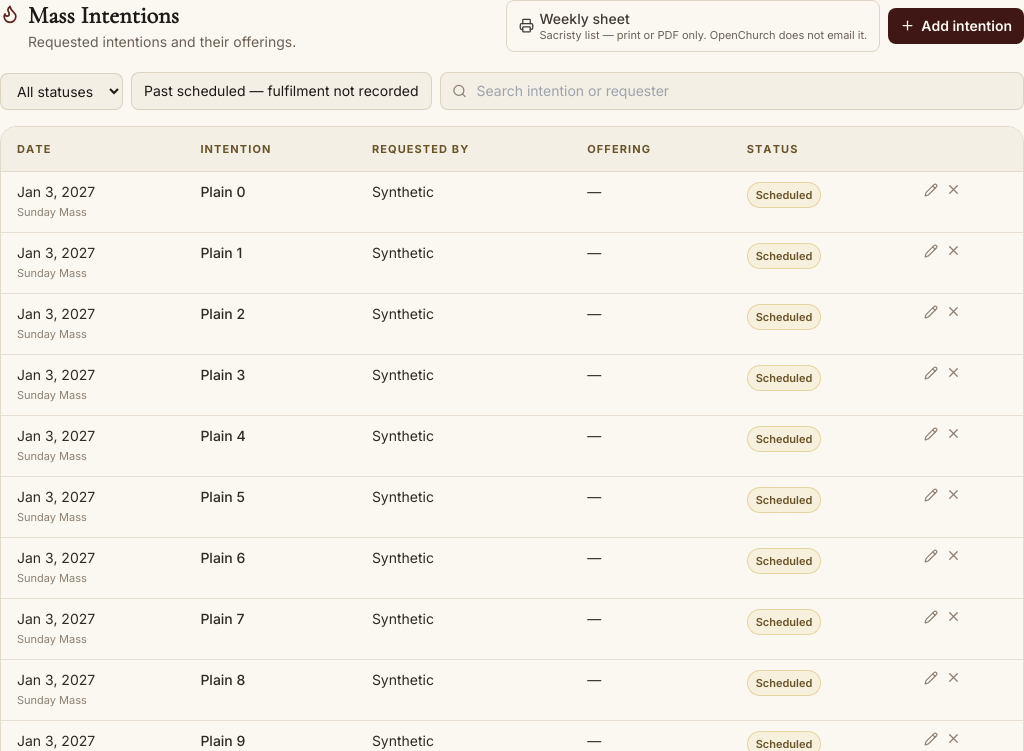
Test case: R313-1 list-result ownership › old save reload resolving after a query change does not replace the filtered list; the save toast stays truthful
Expected: the text "Plain 0" is shown, [184,172,356,232]
Click the button "Add intention". click: (956, 26)
box: [888,8,1023,44]
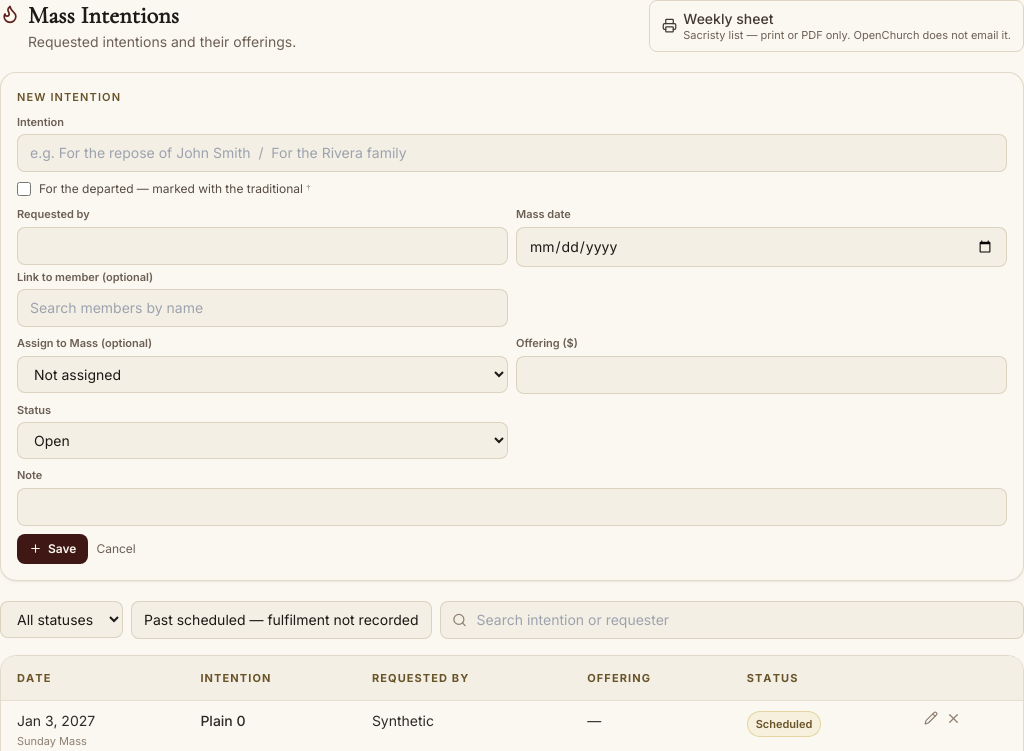
Type "For the parish" into the field labelled "Intention". click: (512, 153)
box: [17,134,1007,172]
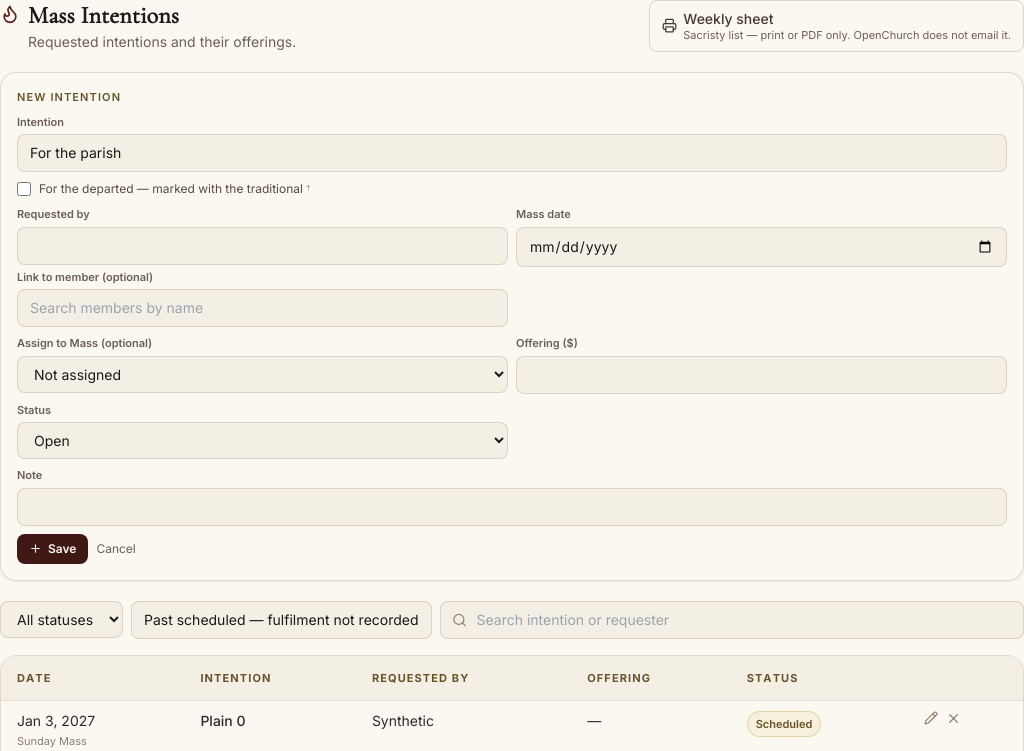
Click the button "Save". click: (53, 548)
box: [17,534,88,564]
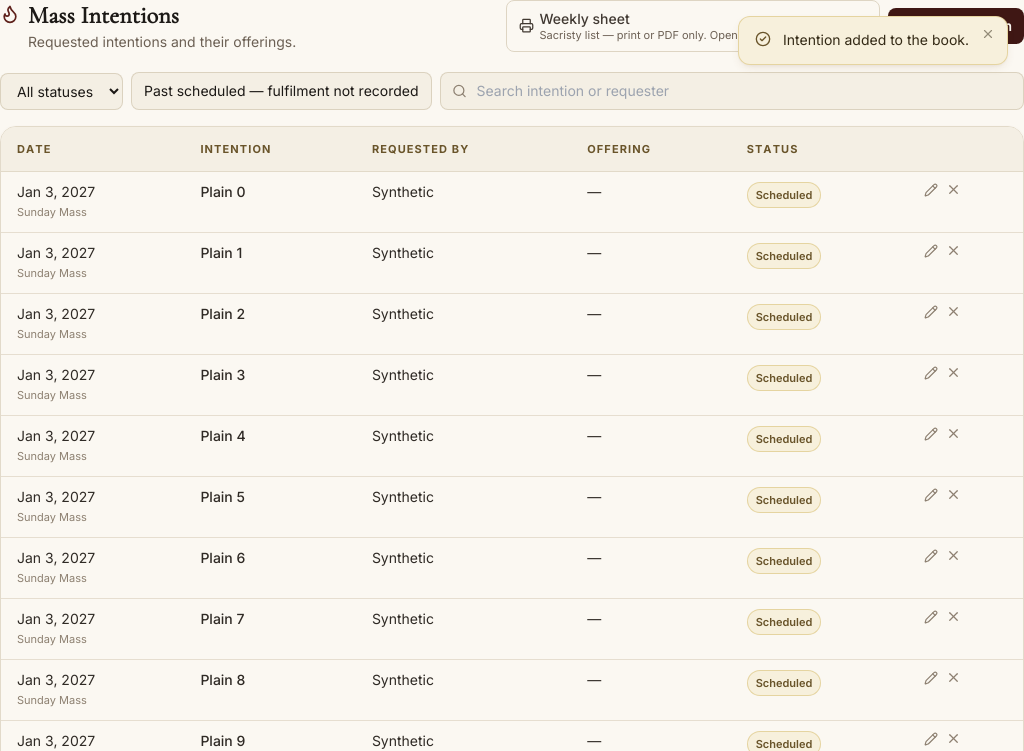
Expected: the text "Intention added to the book." is shown, [783,29,969,52]
Click the button with test id "mi-past-filter". click: (281, 91)
box: [131,72,432,110]
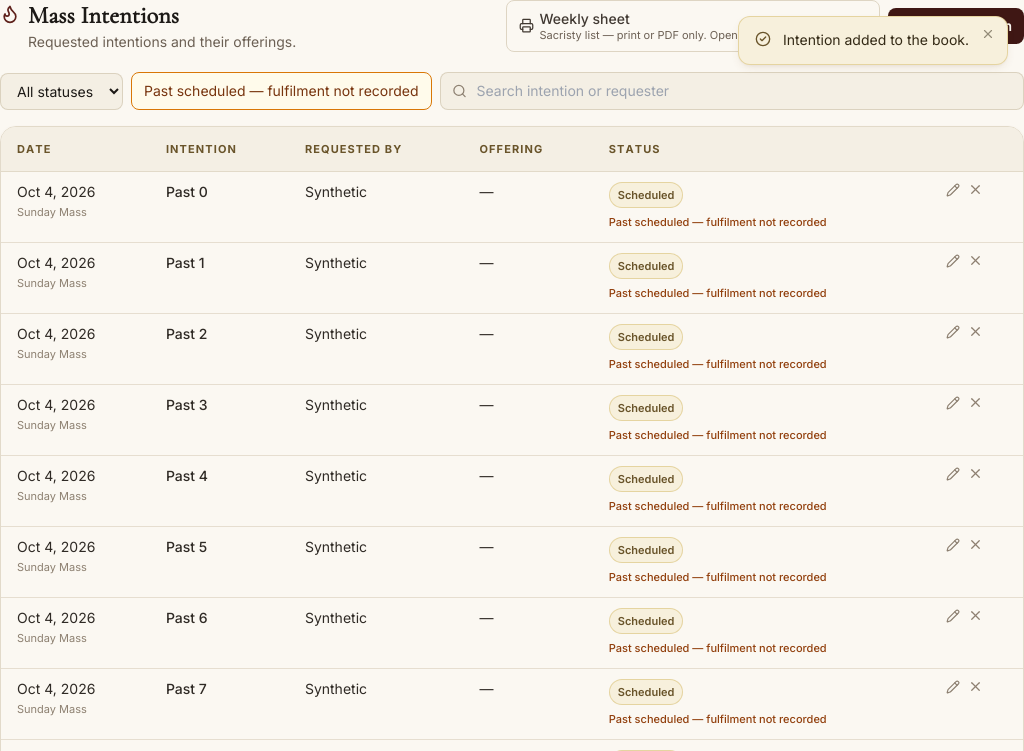
Expected: the text "Past 0" is shown, [150,172,289,242]
Expected: the number of elements with test id "mi-past-scheduled" is 50
